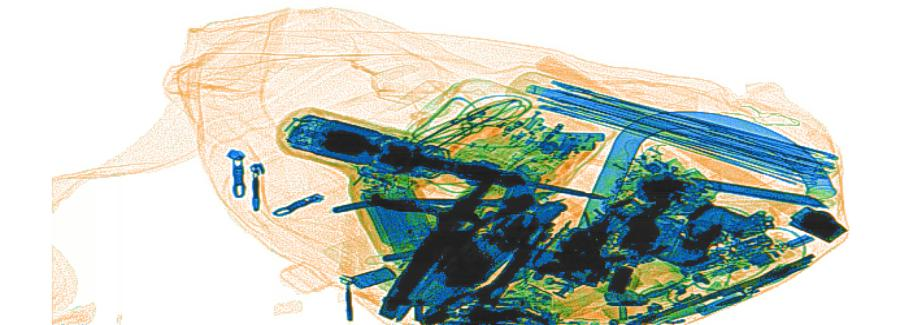battery: (359, 179, 437, 257)
knife: (688, 175, 830, 209)
